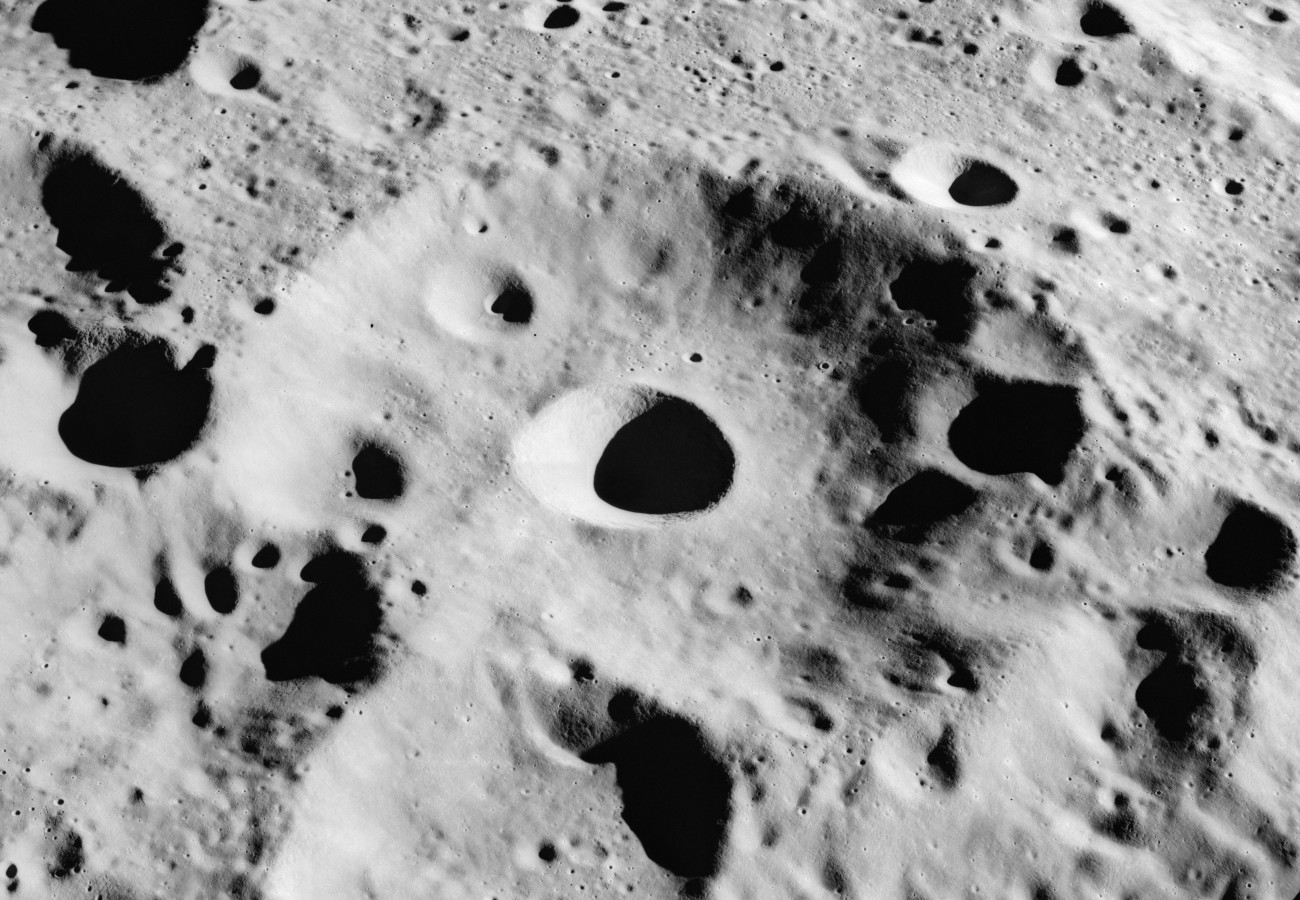crater: (444, 351, 825, 579), (821, 96, 1063, 268), (394, 223, 604, 362), (214, 237, 372, 377)
